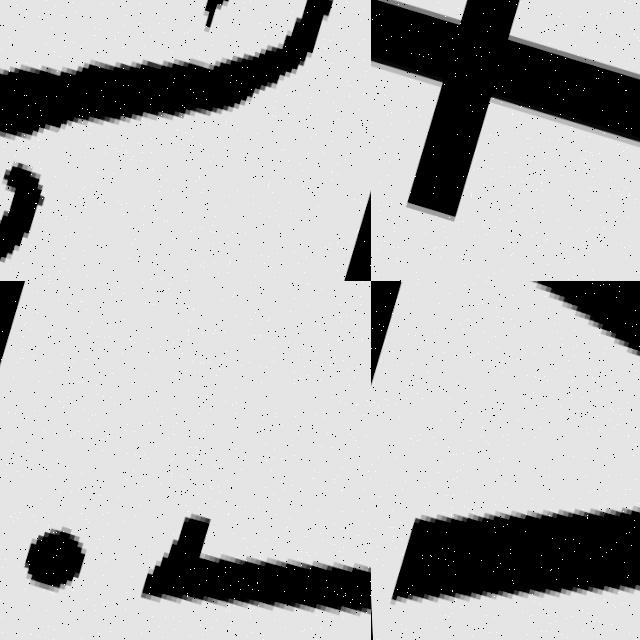J: (0, 319, 371, 640)
P: (0, 0, 327, 281)
T: (371, 0, 640, 281)
V: (371, 281, 640, 640)
